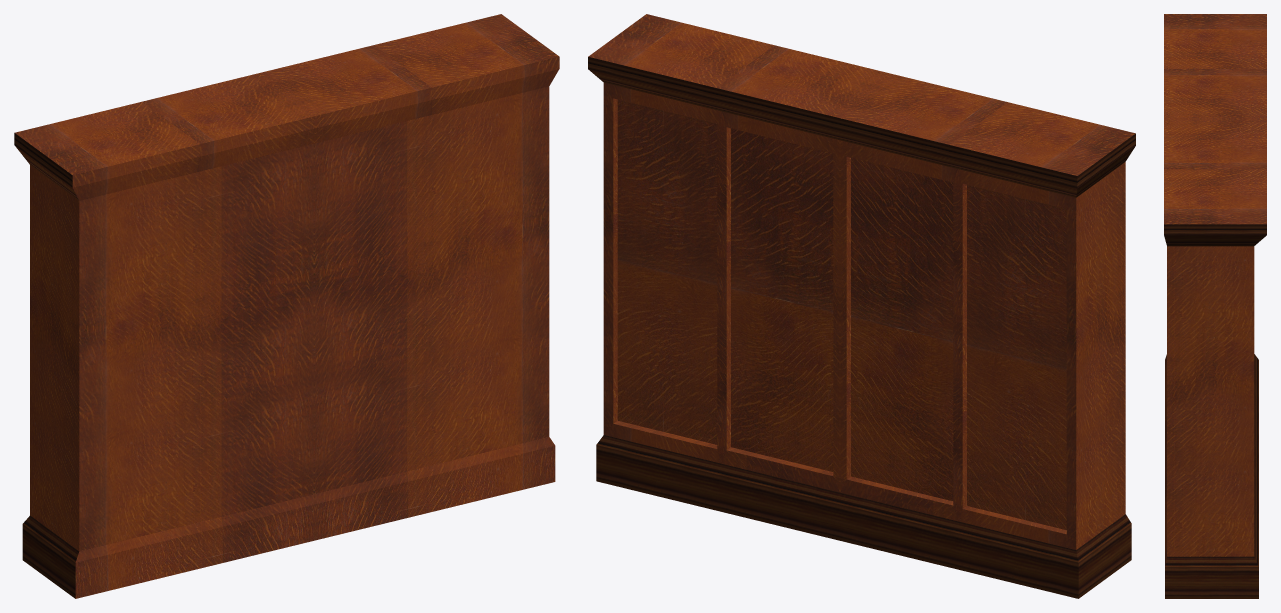
The model's file is BookcaseLong2.fbx.
3 views of the same model, side by side, from view 1: azimuth 30°, elevation 25°; view 2: azimuth 150°, elevation 25°; view 3: azimuth 270°, elevation 25° (orthographic). The views are drawn at different scales.
Visible parts, largest first — view 1: Bookcaselong2; view 2: Bookcaselong2; view 3: Bookcaselong2.
Part boxes in pixels (box(x1,y1,x2,y2)): Bookcaselong2: box(14, 14, 559, 598); Bookcaselong2: box(588, 14, 1135, 598); Bookcaselong2: box(1164, 14, 1266, 598).
Bounding box in the file's own units: 405 × 338 × 83.72.
